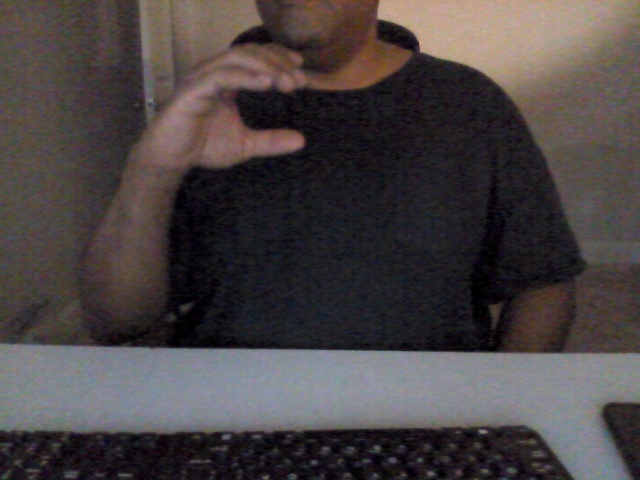drink: (134, 37, 317, 174)
